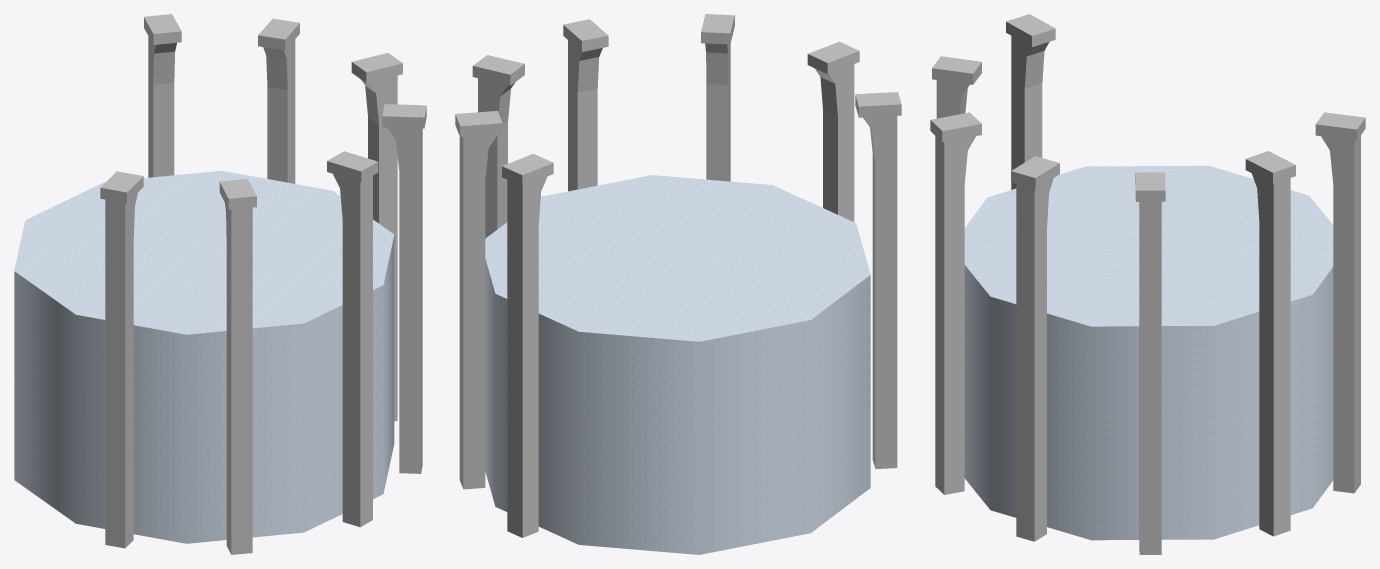
Rendered from EndPillars.fbx.
The picture shows the model from 3 angles, left to right: view 1: azimuth 30°, elevation 25°; view 2: azimuth 150°, elevation 25°; view 3: azimuth 270°, elevation 25°; orthographic projection. The views are drawn at different scales.
Parts seen in each view (by area): view 1: Cylinder__18_.008, archway.023; view 2: Cylinder__18_.008, archway.023; view 3: Cylinder__18_.008, archway.023.
Boxes of the visible parts, x1=… form: Cylinder__18_.008: x1=14, y1=170, x2=394, y2=543; archway.023: x1=100, y1=14, x2=426, y2=554; Cylinder__18_.008: x1=485, y1=175, x2=870, y2=554; archway.023: x1=455, y1=14, x2=901, y2=537; Cylinder__18_.008: x1=964, y1=165, x2=1333, y2=540; archway.023: x1=930, y1=14, x2=1365, y2=554.
Size of the model in its own units: 6299 by 6080 by 6553.
